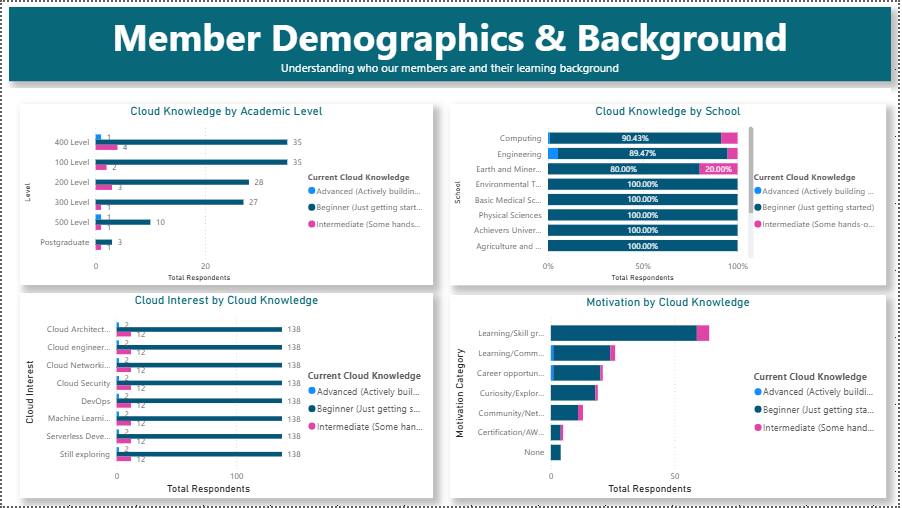

The dashboard page shown, as its layout file describes it:
{"tool":"powerbi","page":{"name":"Demographics","canvas":[1280,720],"ordinal":2},"visuals":[{"type":"textbox","box":[10,7.8,1260,105.6],"z":0},{"type":"textbox","box":[10,122.9,1260,585.7],"z":1},{"type":"clusteredBarChart","title":"Cloud Knowledge by Academic Level","fields":{"Category":["Respondents.Level"],"Series":["Respondents.Current Cloud Knowledge"],"Y":["Respondents.Total Respondents"]},"box":[25.7,145.7,590,258.6],"z":2},{"type":"hundredPercentStackedBarChart","title":"Cloud Knowledge by School","fields":{"Category":["Respondents.School"],"Y":["Respondents.Total Respondents"],"Series":["Respondents.Current Cloud Knowledge"]},"box":[640,145.7,622.9,258.6],"z":3},{"type":"clusteredBarChart","title":"Cloud Interest by Cloud Knowledge","fields":{"Series":["Respondents.Current Cloud Knowledge"],"Category":["Cloud Interests.Cloud Interest"],"Y":["Respondents.Total Respondents"]},"box":[25.7,415.7,590,292.9],"z":4},{"type":"barChart","title":"Motivation by Cloud Knowledge","fields":{"Category":["Respondents.Motivation Category"],"Y":["Respondents.Total Respondents"],"Series":["Respondents.Current Cloud Knowledge"]},"box":[640,418.6,622.9,290],"z":5}]}

Visuals, with their boxes in screenshot pixels (x1, y1, x2, y2), scaled from the page's 1280x720 canvas onto the 902x508 screenshot:
textbox: <region>7, 6, 895, 80</region>
textbox: <region>7, 87, 895, 500</region>
"Cloud Knowledge by Academic Level" clusteredBarChart: <region>18, 103, 434, 285</region>
"Cloud Knowledge by School" hundredPercentStackedBarChart: <region>451, 103, 890, 285</region>
"Cloud Interest by Cloud Knowledge" clusteredBarChart: <region>18, 293, 434, 500</region>
"Motivation by Cloud Knowledge" barChart: <region>451, 295, 890, 500</region>
